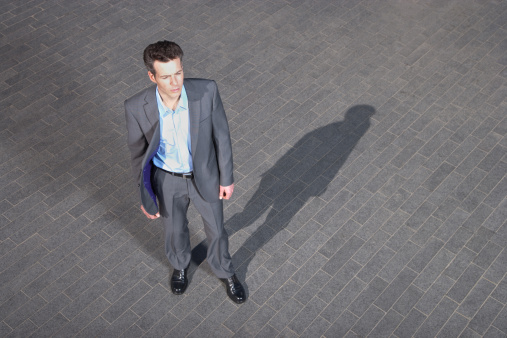em pe: (117, 37, 248, 292)
